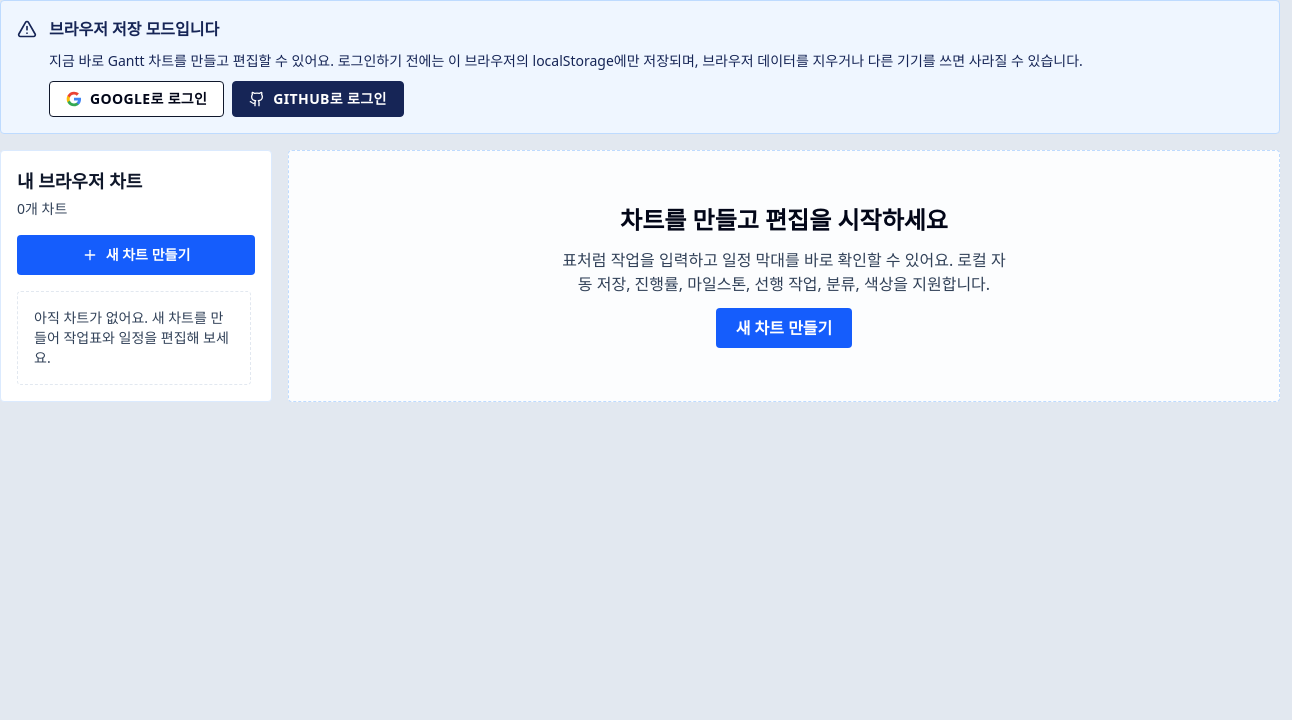
LocalChartWorkspace › creates a starter chart and persists it to localStorage
Click the button "새 차트 만들기" below "차트를 만들고 편집을 시작하세요" at (784, 328), box [716,308,852,348]
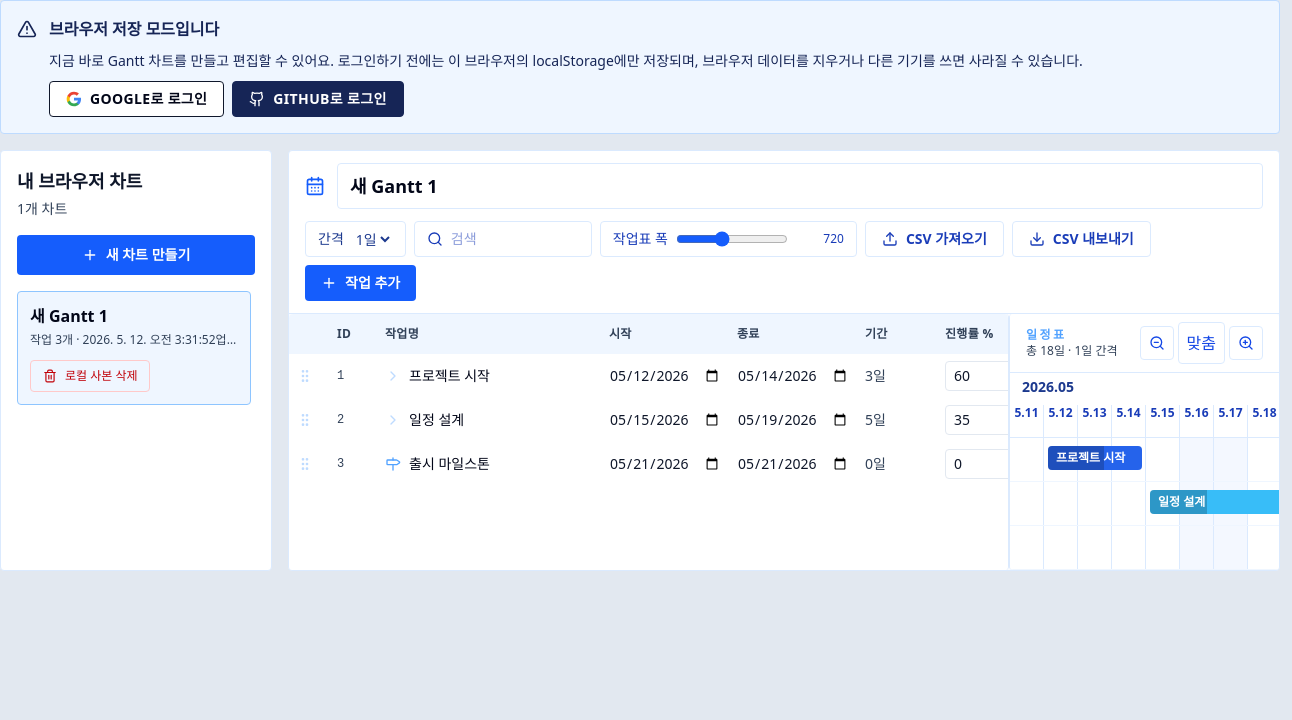
Expected: the field showing "새 Gantt 1" is shown, [337,163,1263,209]
Expected: the text "1개 차트" is shown, [17,199,67,218]
Expected: the text "일정표" is shown, [1026,326,1066,343]
